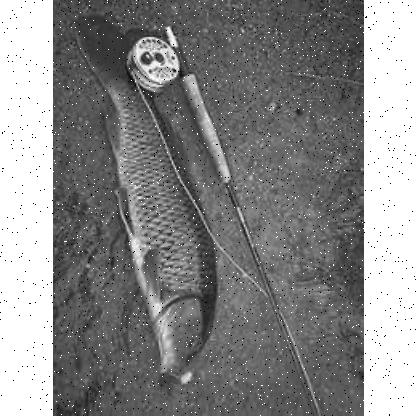ikan-mas: (74, 14, 222, 390)
